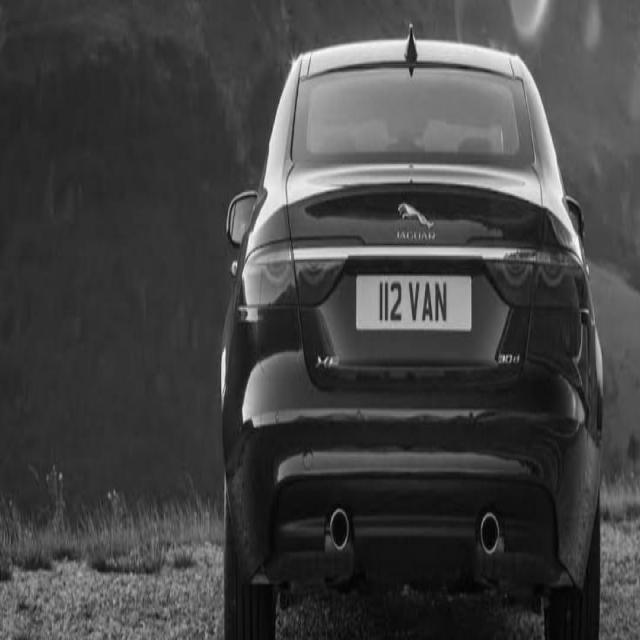car: (215, 44, 605, 640)
license-plate: (354, 260, 472, 347)
